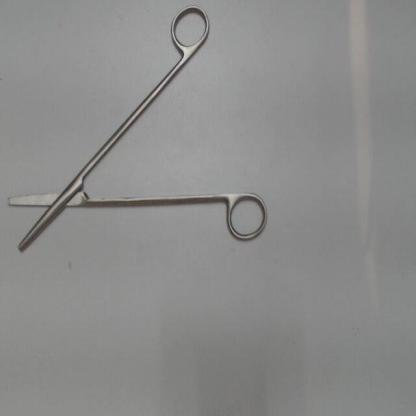9 Metzenbaum Scissors: (6, 3, 274, 259)
